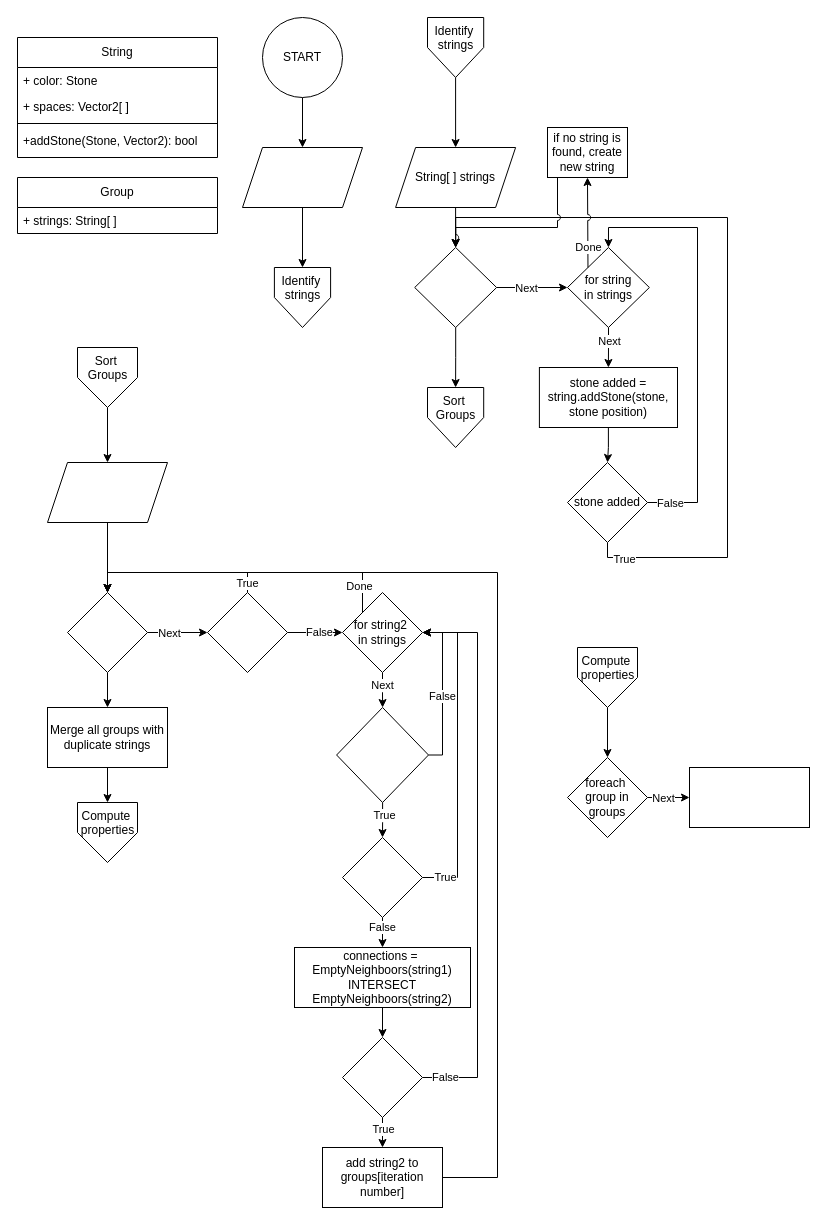
This 827x1225 diagram has some shape labels left out. The shapes that lost their labels are listed below. From the top down, each one's centre as x and y in pixels, then its label:
the point at 302,177: Stone[ ][ ] board
the point at 455,287: for space in board
the point at 107,492: Group[ ] groups
the point at 107,632: for string1 i n strings
the point at 247,632: string1 is in atari
the point at 382,754: string1. color == string2. color
the point at 749,797: liberties = each empty space adjacent to string in group
the point at 382,877: string2 is in atari
the point at 382,1077: length connections >= 2
